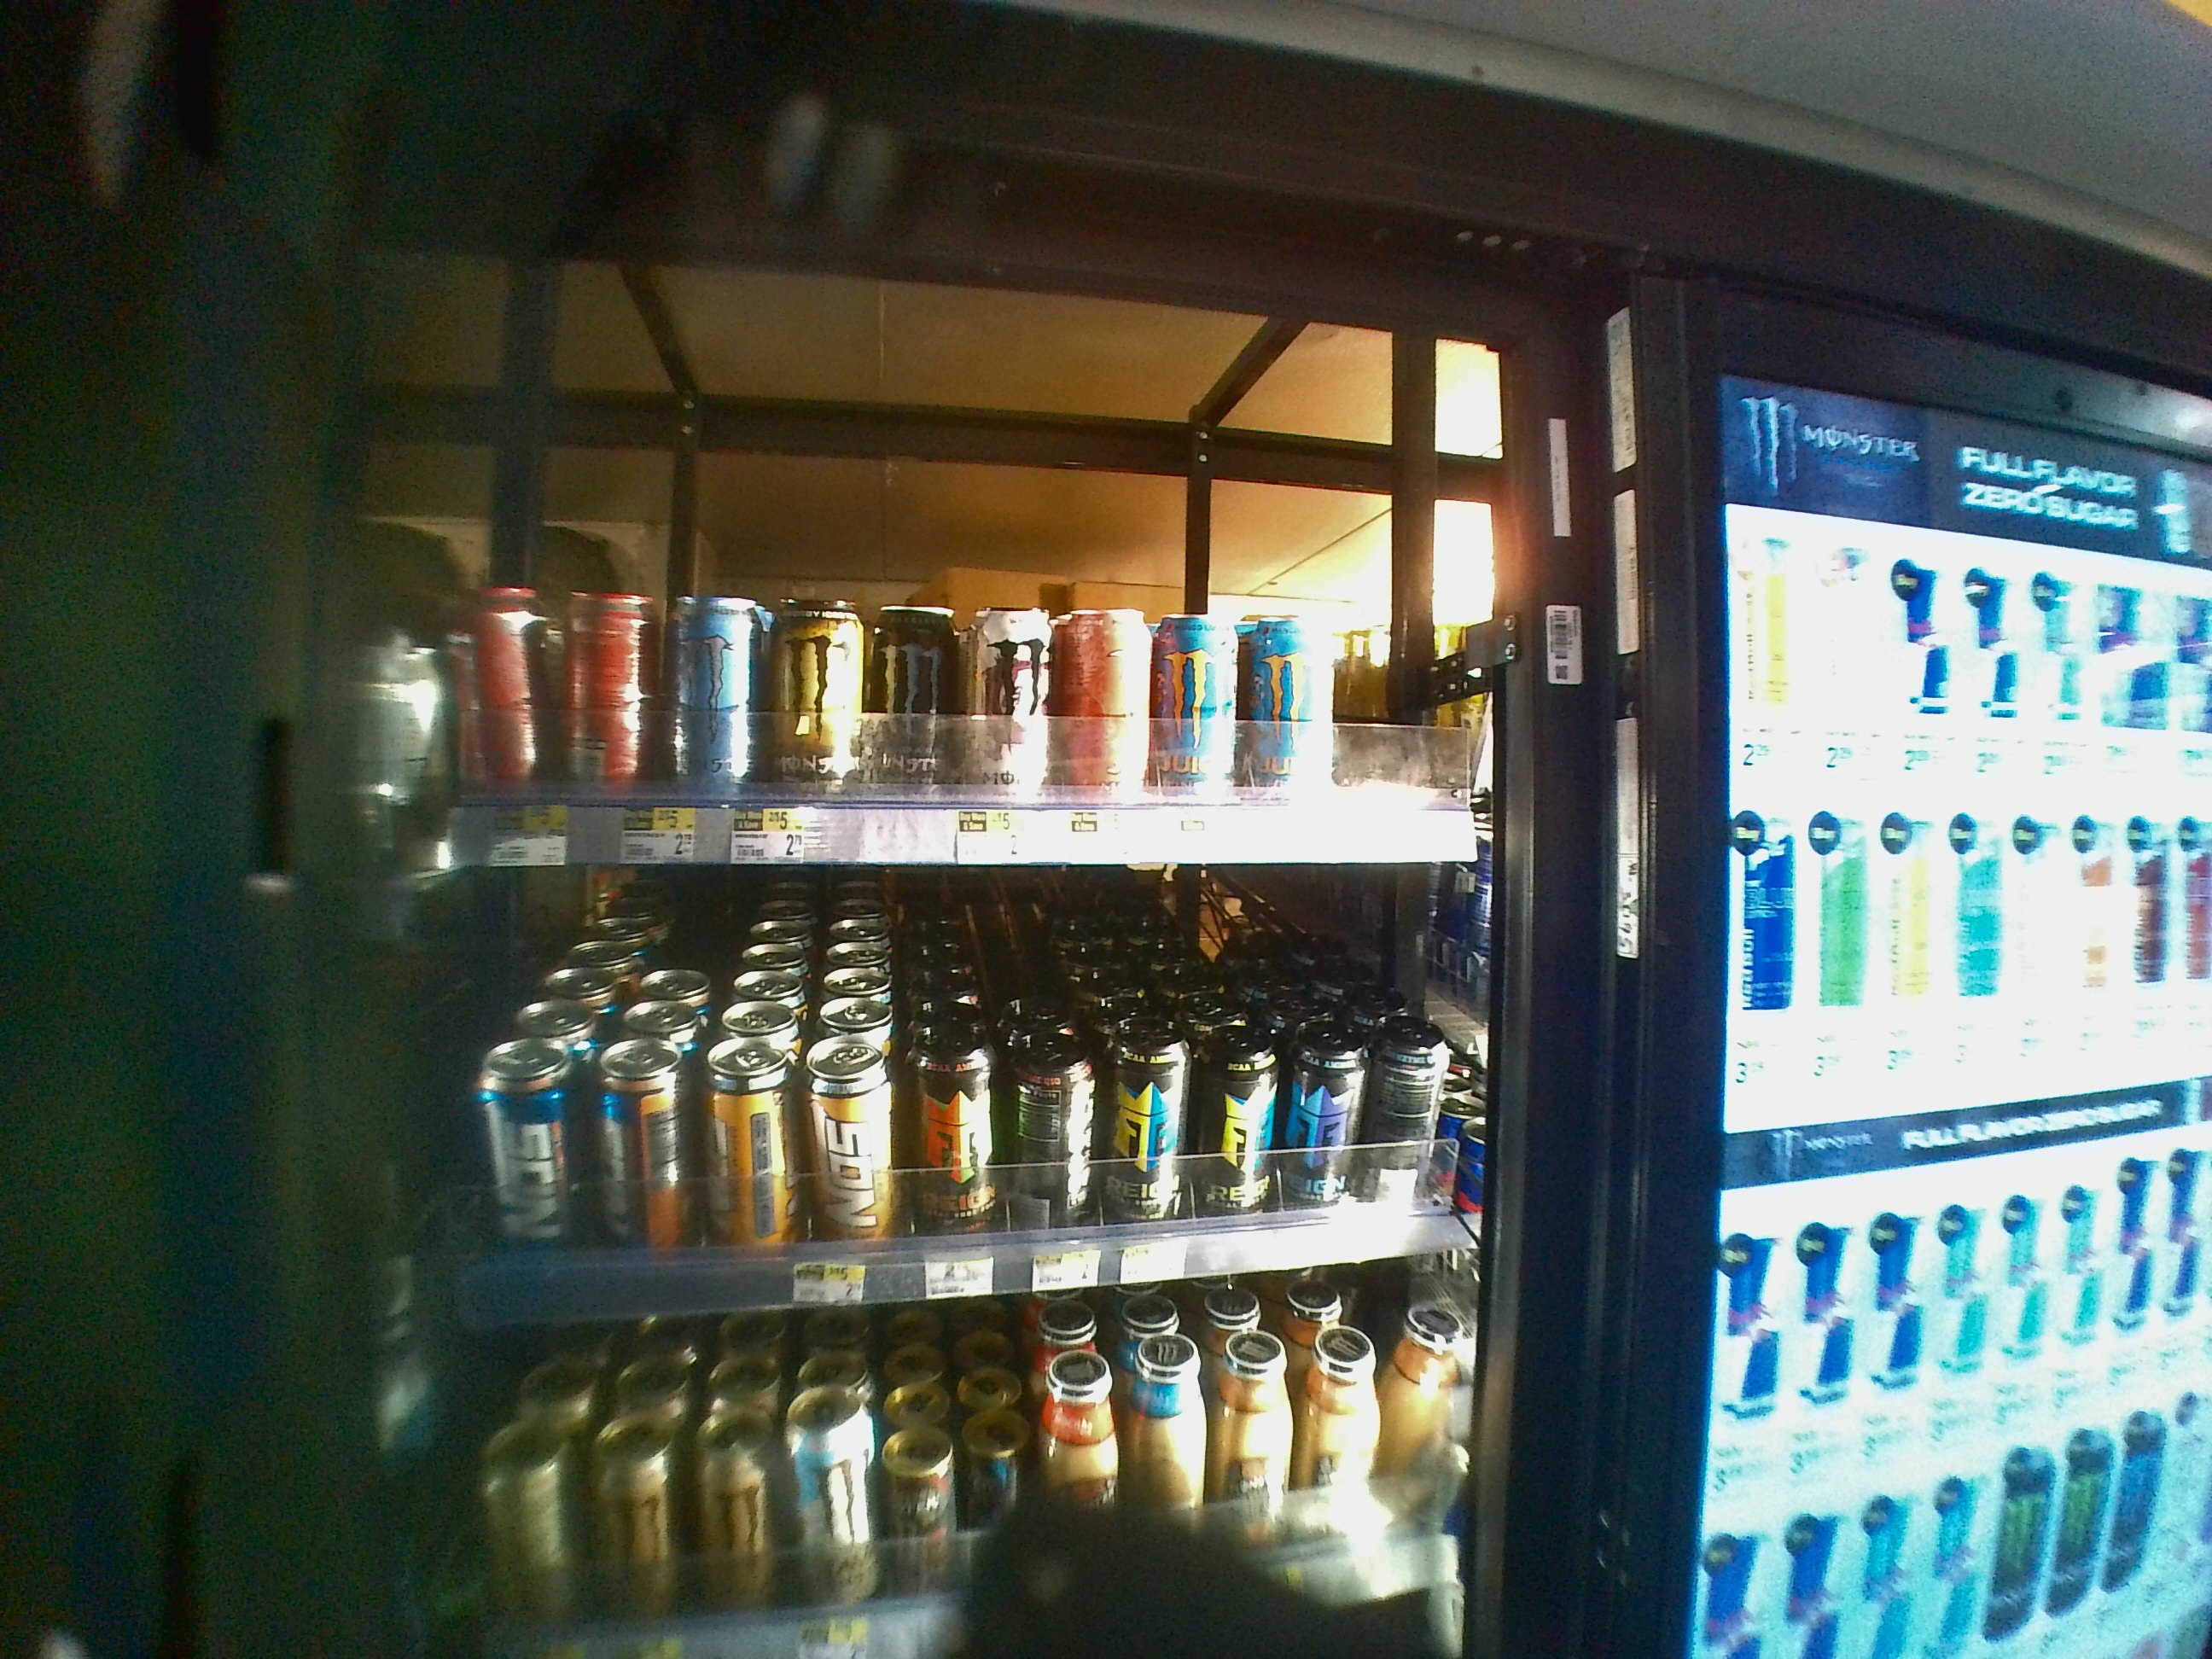shelf: (343, 256, 1507, 866), (336, 864, 1508, 1297)
